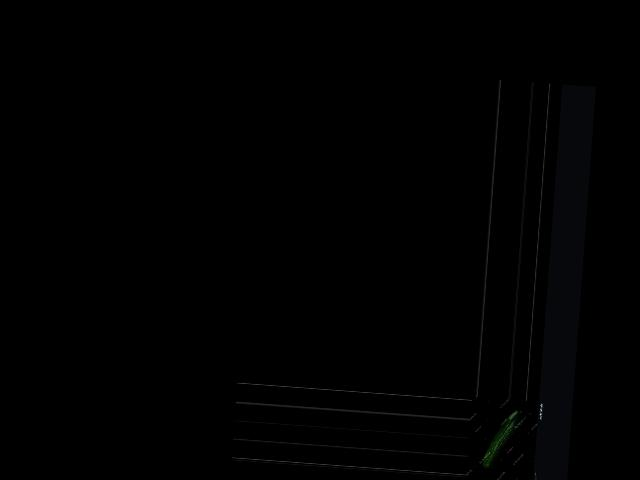cucumber: (482, 408, 524, 471)
